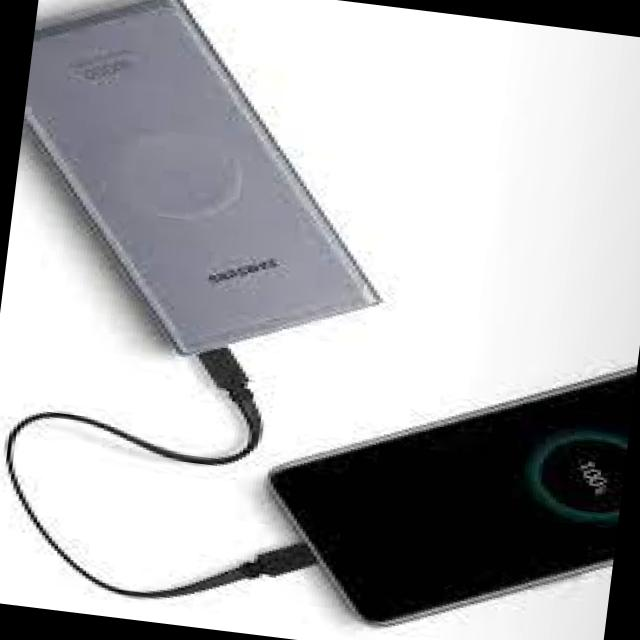power_bank: (0, 0, 413, 378)
